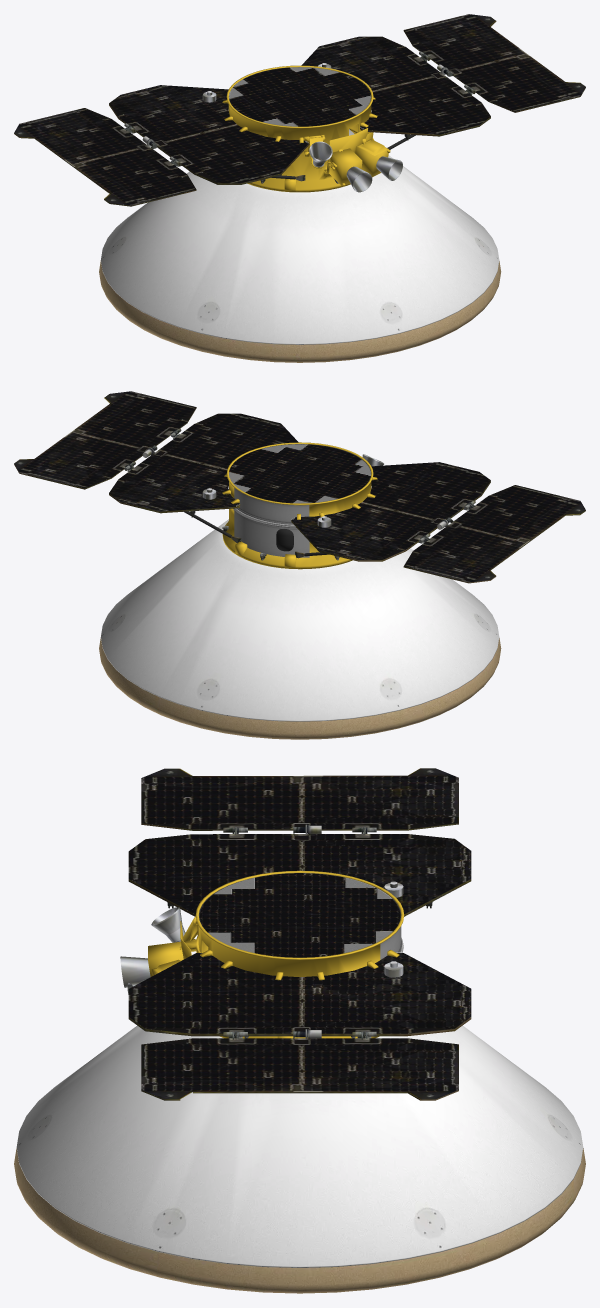
File: phoenix_lander.glb
3 views of the same model, one above another, from view 1: azimuth 30°, elevation 25°; view 2: azimuth 150°, elevation 25°; view 3: azimuth 270°, elevation 25° (orthographic). The views are drawn at different scales.
Visible parts, largest first — view 1: back_shell, panels_center, panel_L, panel_R, heat_shield, cruise_stage_top, cruise_stage, parts_gold, cams; view 2: back_shell, panels_center, panel_L, panel_R, heat_shield, cruise_stage_top, cruise_stage_side_pnl, cruise_stage, parts_gold; view 3: back_shell, panels_center, panel_R, panel_L, heat_shield, cruise_stage_top, cruise_stage, parts_gold, cams.
Boxes of the visible parts, <box> form: back_shell: <box>101,155,499,344</box>; panels_center: <box>109,36,490,184</box>; panel_L: <box>14,108,196,206</box>; panel_R: <box>403,14,585,112</box>; heat_shield: <box>99,260,501,362</box>; cruise_stage_top: <box>229,67,371,126</box>; cruise_stage: <box>226,65,373,192</box>; parts_gold: <box>222,97,390,190</box>; cams: <box>309,141,402,192</box>; back_shell: <box>101,519,499,721</box>; panels_center: <box>109,413,490,561</box>; panel_L: <box>403,485,585,583</box>; panel_R: <box>14,391,196,489</box>; heat_shield: <box>99,637,501,739</box>; cruise_stage_top: <box>229,444,371,503</box>; cruise_stage_side_pnl: <box>233,488,309,557</box>; cruise_stage: <box>222,442,373,569</box>; parts_gold: <box>222,474,377,567</box>; back_shell: <box>16,1025,583,1267</box>; panels_center: <box>128,824,471,1038</box>; panel_R: <box>141,1029,458,1100</box>; panel_L: <box>141,768,458,833</box>; heat_shield: <box>14,1148,585,1293</box>; cruise_stage_top: <box>198,873,401,957</box>; cruise_stage: <box>195,870,404,1038</box>; parts_gold: <box>148,916,399,1038</box>; cams: <box>120,907,185,994</box>.
Bounding box in the file's own units: 3.6 × 1.77 × 2.63.
12 materials, 8 textured.
